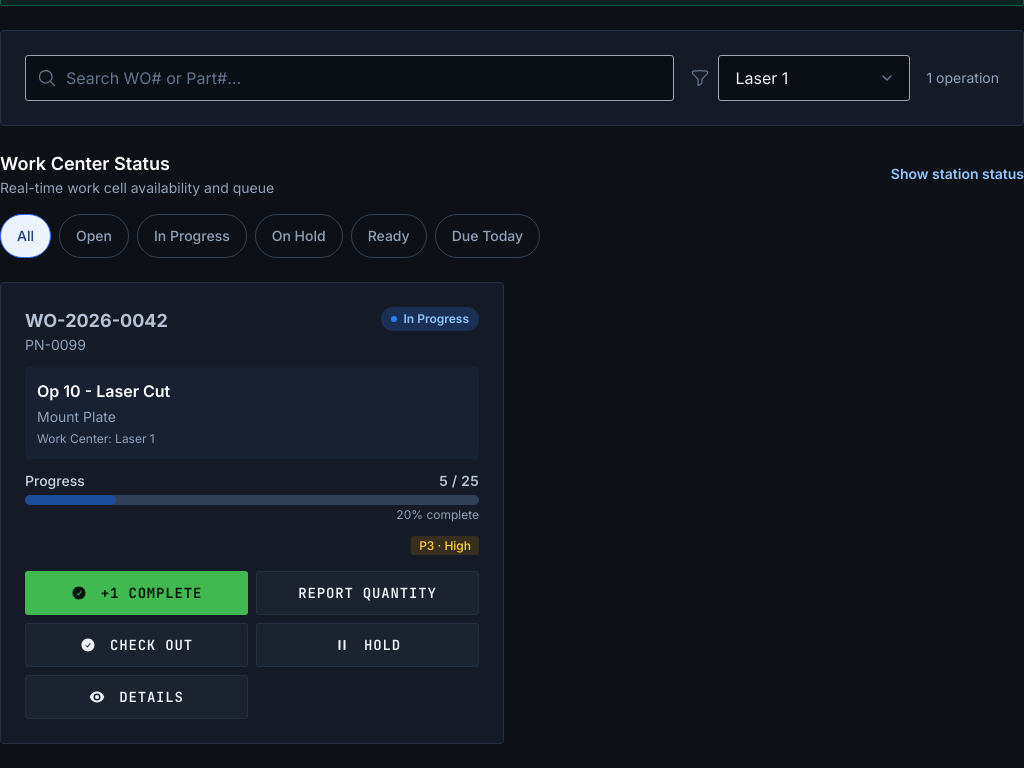
ShopFloorSimple place-on-hold › requires a category and disables confirm until one is chosen
(page scrolled)
Expected: the element with test id "shop-floor-op-101" is shown, [0, 282, 504, 744]
Click the button "Hold" at {"x": 368, "y": 644}, box [256, 622, 479, 666]
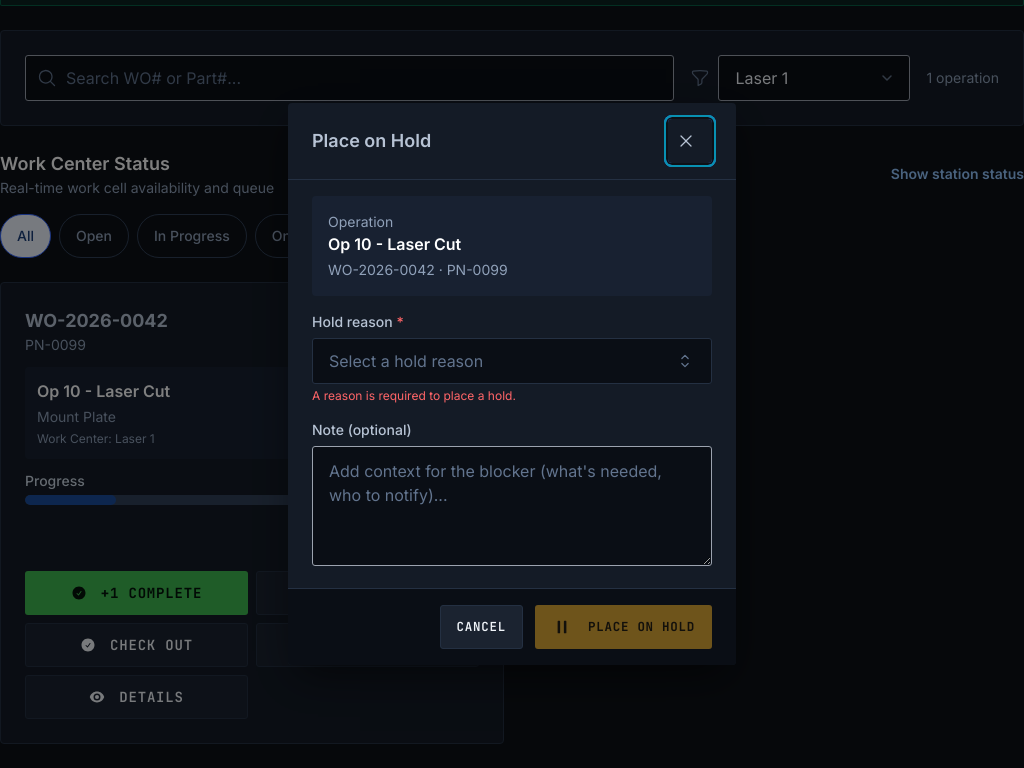
Expected: the text "A reason is required to place a hold." is shown, [312, 388, 516, 403]
Expected: the button "Place on Hold" is disabled, [535, 605, 712, 649]
